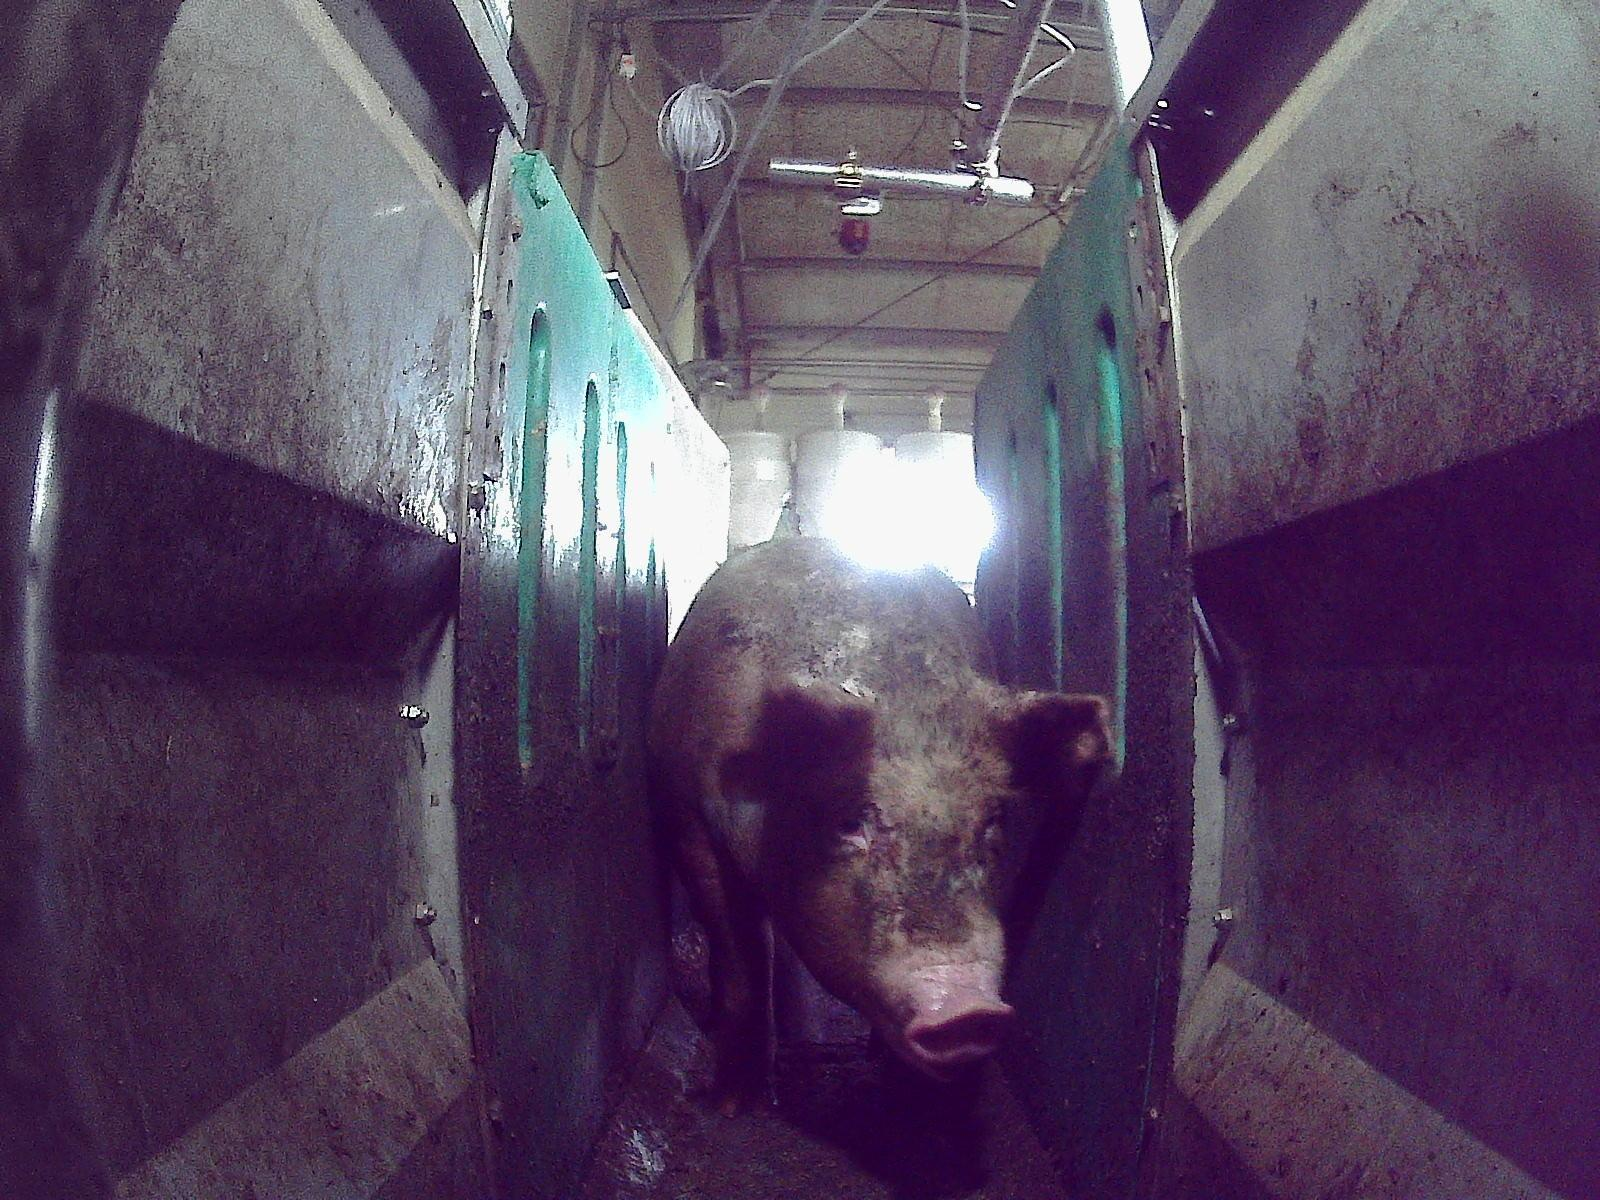Face: (762, 699, 1018, 1065)
